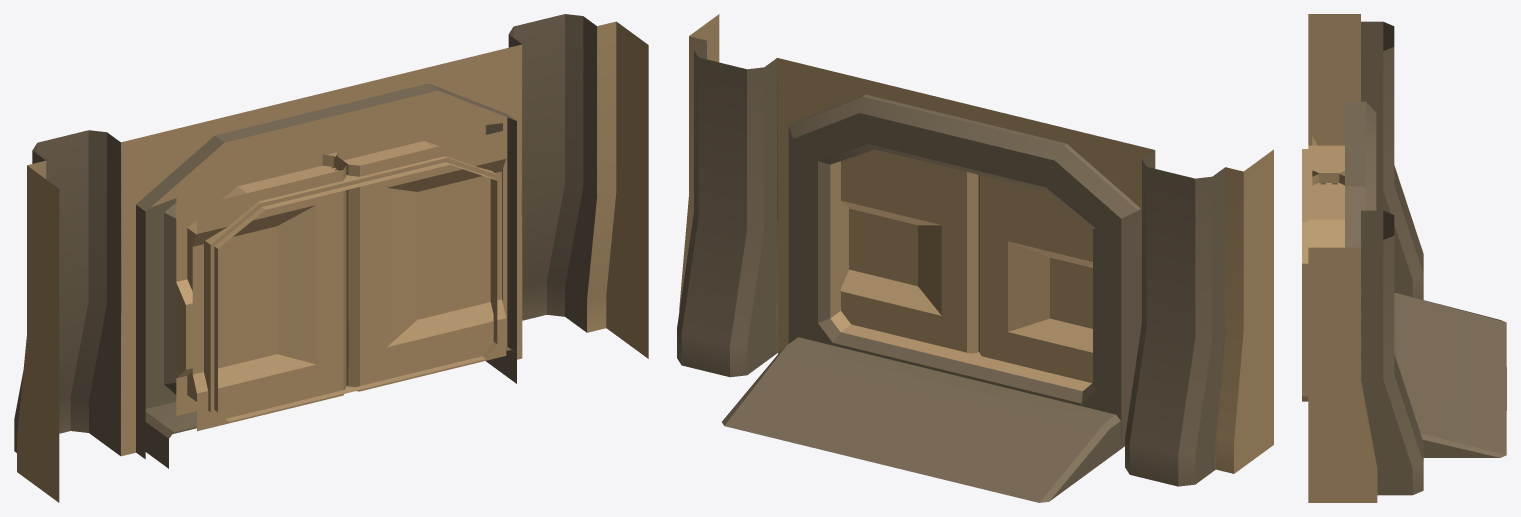
File: Gate 1.fbx
The picture shows the model from 3 angles, left to right: view 1: azimuth 30°, elevation 25°; view 2: azimuth 150°, elevation 25°; view 3: azimuth 270°, elevation 25°; orthographic projection. The views are drawn at different scales.
Parts seen in each view (by area): view 1: GateFram, RightGate, LeftGate; view 2: GateFram, LeftGate, RightGate; view 3: GateFram, LeftGate.
Part boxes in pixels (x1,y1,x2,y2): GateFram: [14, 14, 648, 502]; RightGate: [176, 154, 347, 431]; LeftGate: [336, 115, 506, 391]; GateFram: [677, 14, 1273, 502]; LeftGate: [841, 149, 978, 353]; RightGate: [978, 175, 1092, 382]; GateFram: [1302, 14, 1506, 502]; LeftGate: [1312, 174, 1344, 247].
Size of the model in its own units: 7.83 by 4.03 by 2.9.
